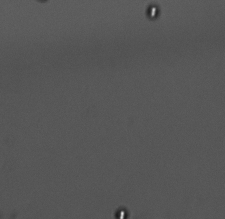Living Cell: (144, 3, 161, 20)
